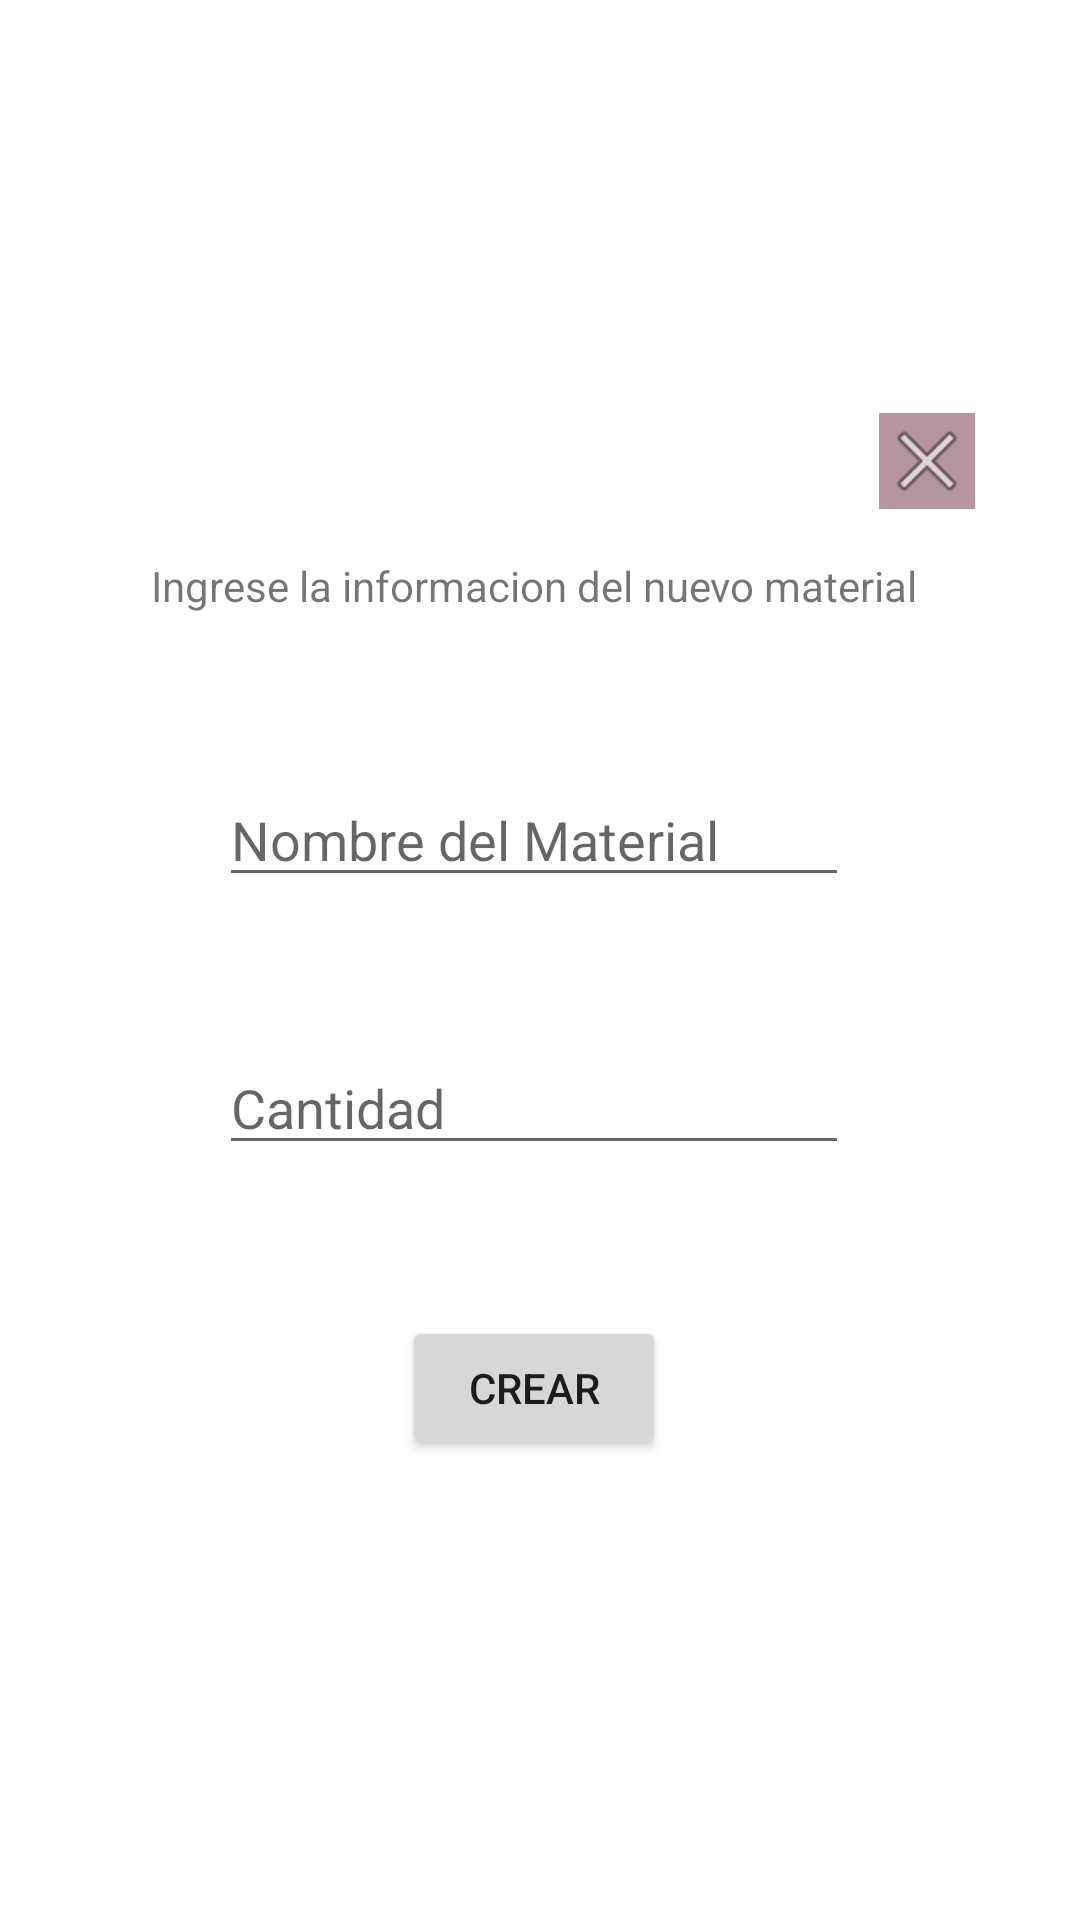

Screen size 1080×1920. Icon name, then its box in pixels as (x1, y1, x2, y2):
close clear cancel: (879, 413, 975, 509)
